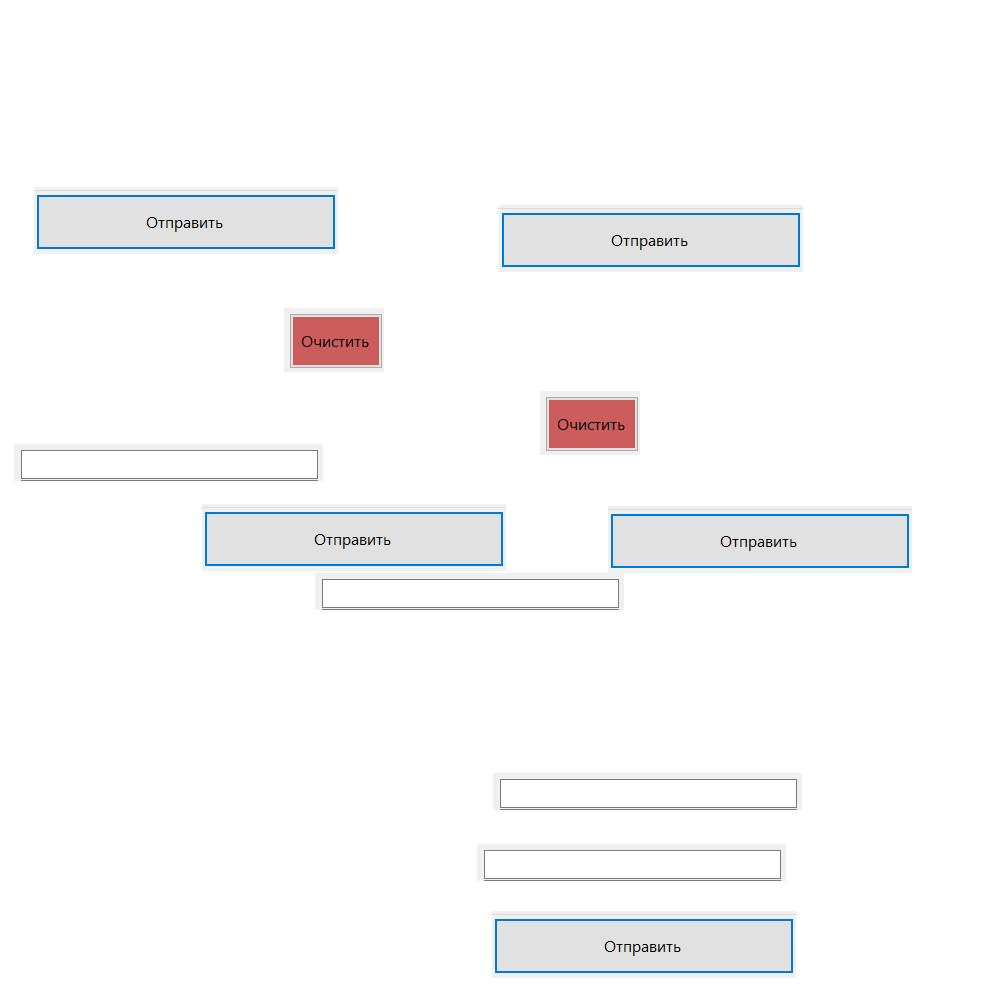Button: (608, 506, 912, 573), (202, 504, 506, 571), (34, 187, 338, 254), (492, 911, 796, 978), (499, 205, 803, 272), (284, 308, 384, 372), (540, 391, 640, 455)
EditText-: (14, 444, 323, 481), (493, 773, 802, 810), (315, 573, 624, 610), (477, 844, 786, 881)
